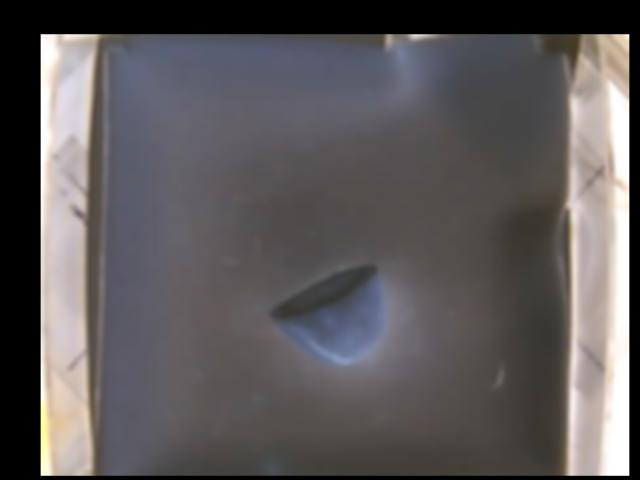Mooli: (266, 263, 385, 363)
